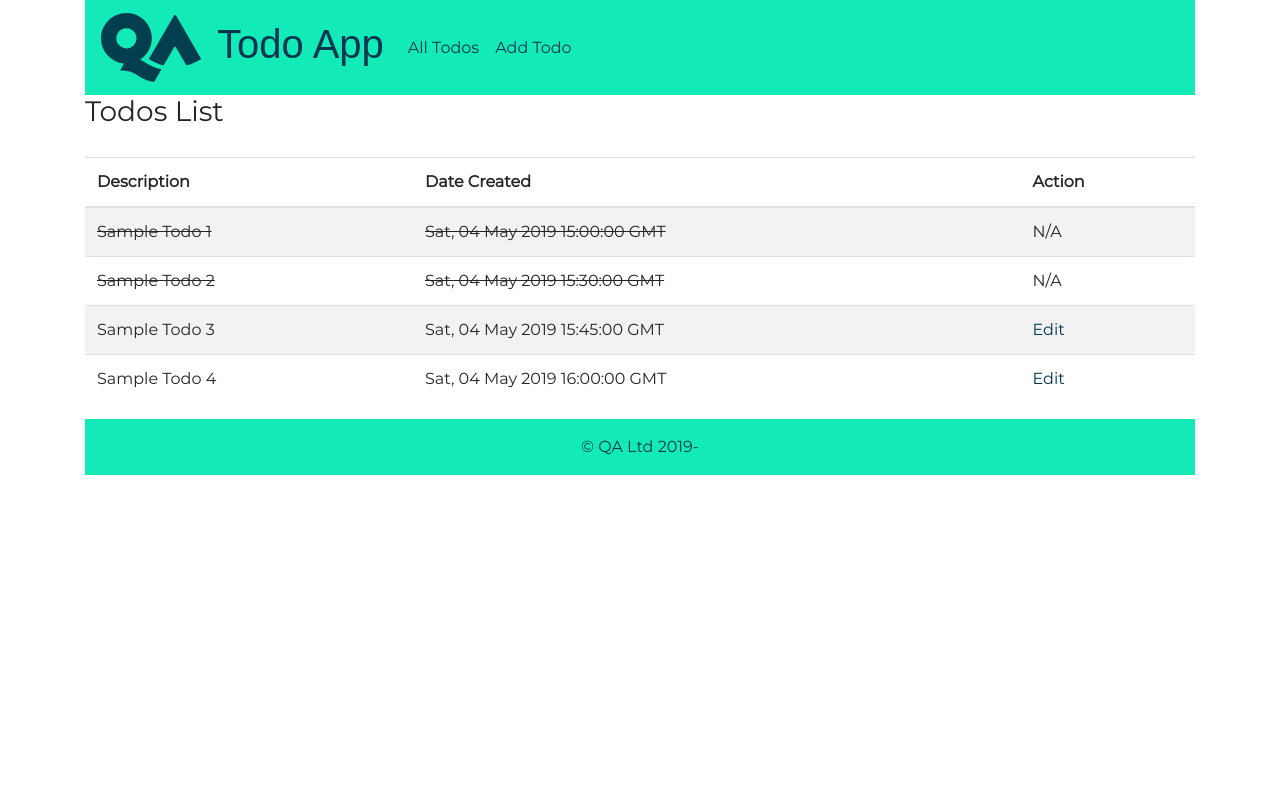
Test: Conditional renders dependent on result of data calls › should display the modal when postError state is truthy from a post request
The image size is (1280, 800).
Click the link with test id "addTodoLink".
click(533, 47)  # box [495,38,572,57]
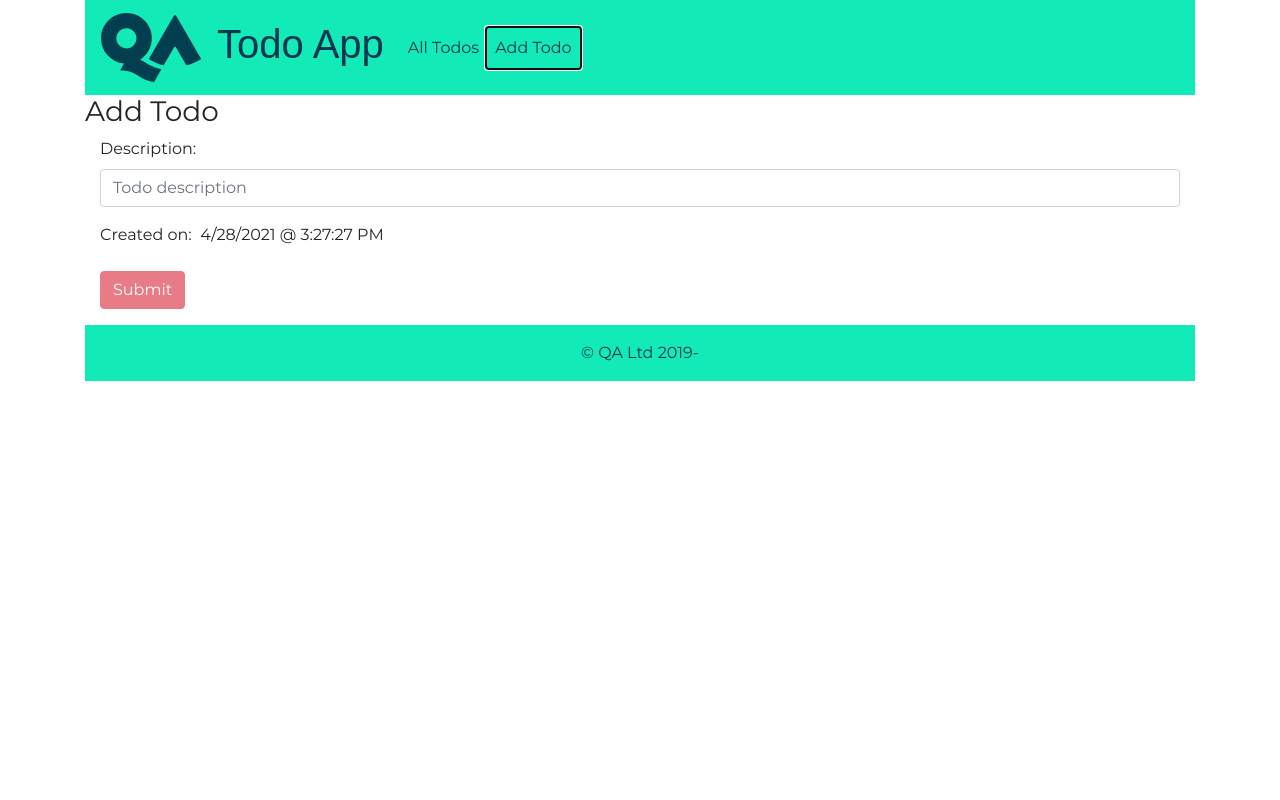
Type "Sample Todo" into the field with placeholder "Todo description".
click(640, 188); type("Sample Todo")  # box [100,169,1180,207]
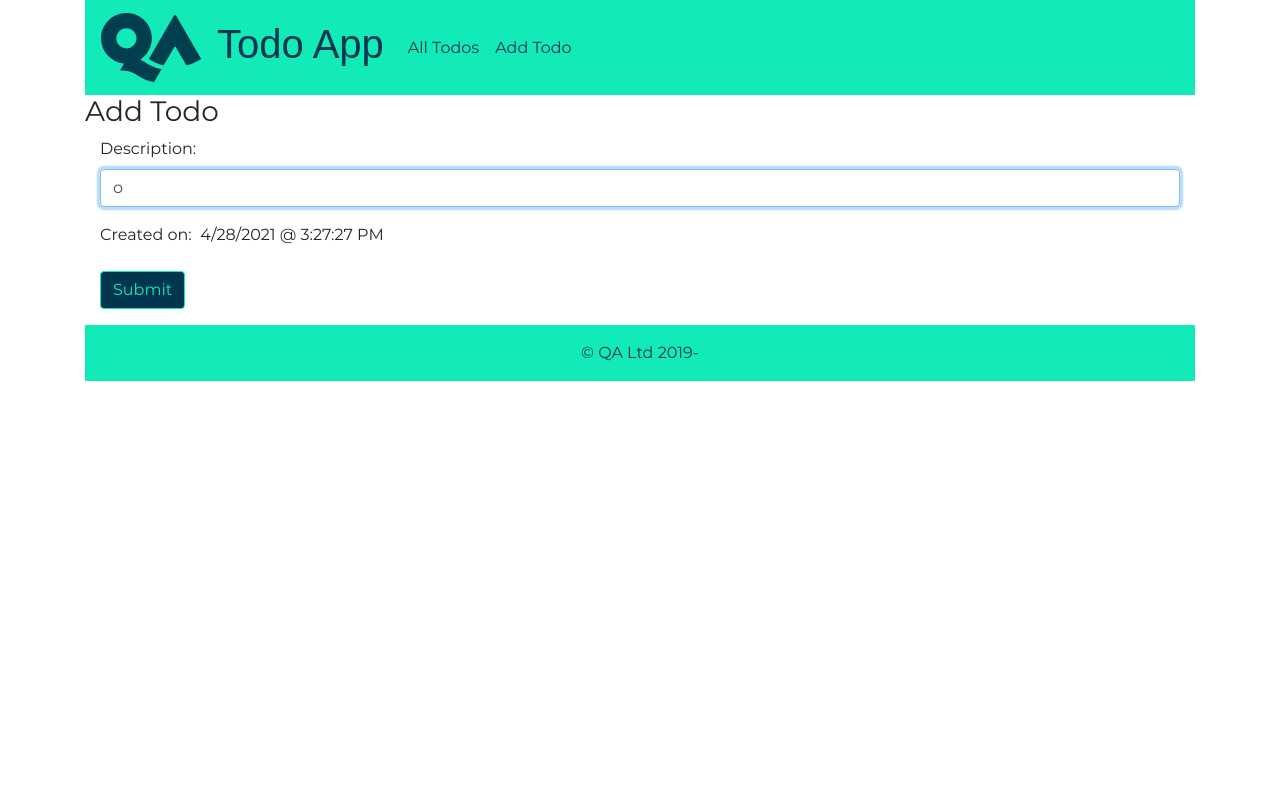
Click the button showing "submit".
click(143, 290)  # box [100,271,185,309]
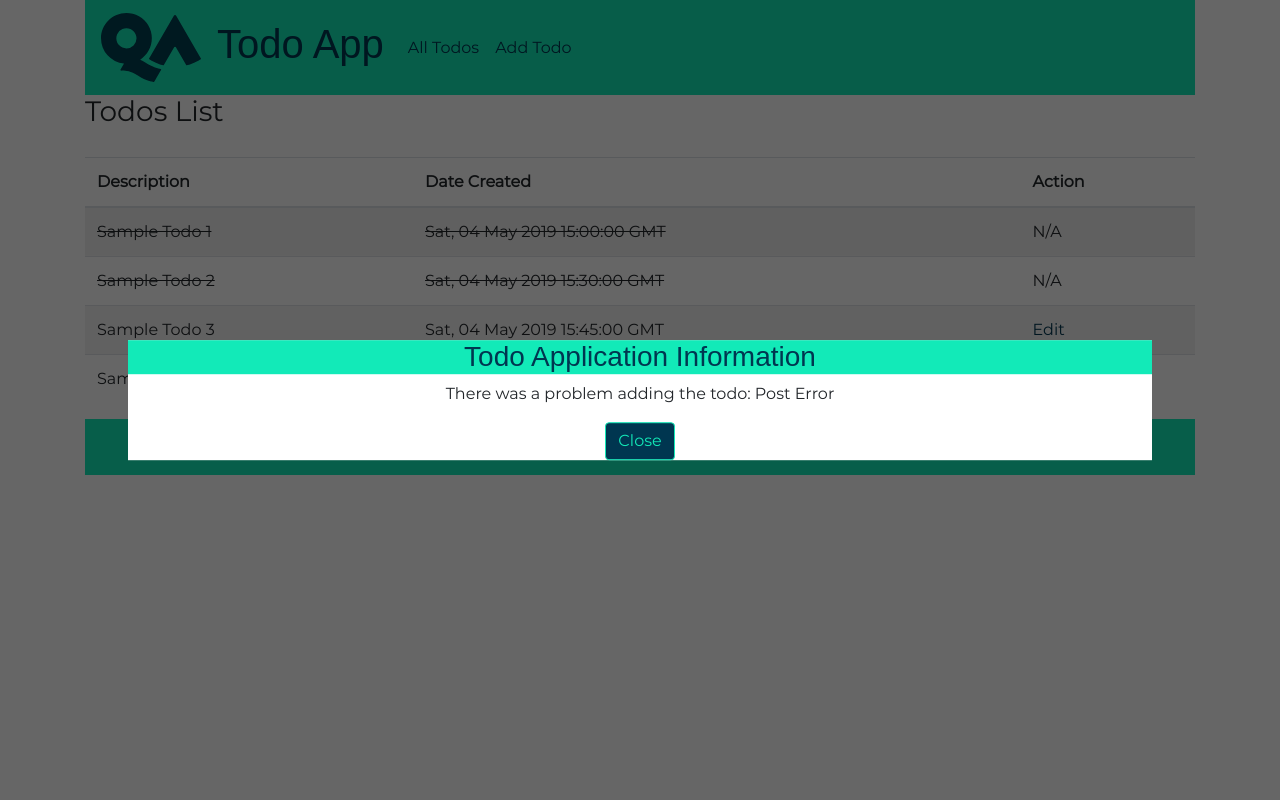
Expected: the heading "Todo Application Information" is shown, [128,340,1152,374]
Expected: the text "There was a problem adding the todo: Post Error" is shown, [446,384,834,403]
